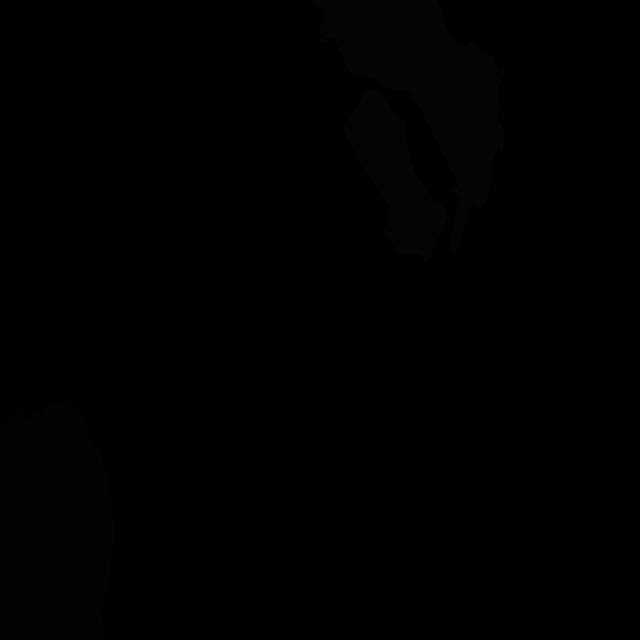cardboard: (0, 401, 115, 640)
soft_plastic: (309, 0, 505, 253), (343, 89, 448, 262)
